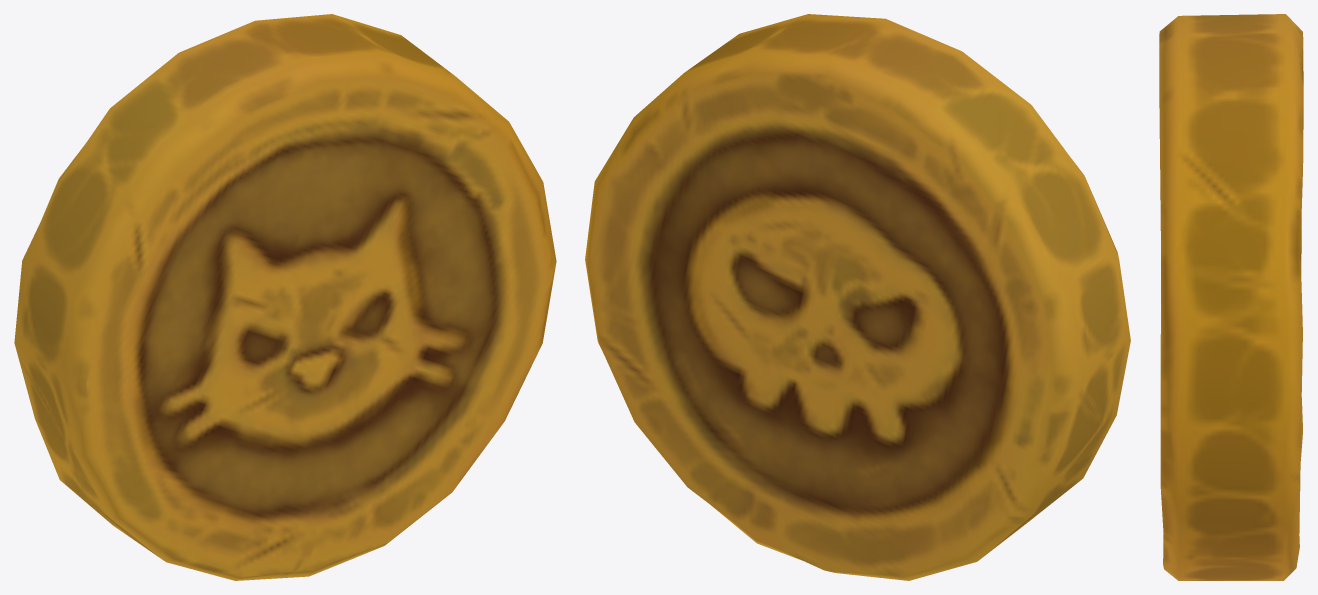
Rendered from coin.glb.
The picture shows the model from 3 angles, left to right: view 1: azimuth 30°, elevation 25°; view 2: azimuth 150°, elevation 25°; view 3: azimuth 270°, elevation 25°; orthographic projection.
Parts seen in each view (by area): view 1: Cylinder.015; view 2: Cylinder.015; view 3: Cylinder.015.
Boxes of the visible parts, x1,y1,x2,y2 form: Cylinder.015: (14, 14, 556, 580); Cylinder.015: (585, 14, 1130, 580); Cylinder.015: (1159, 14, 1303, 580).
Bounding box in the file's own units: 0.3212 × 0.3213 × 0.0813.
1 material, 1 textured.
